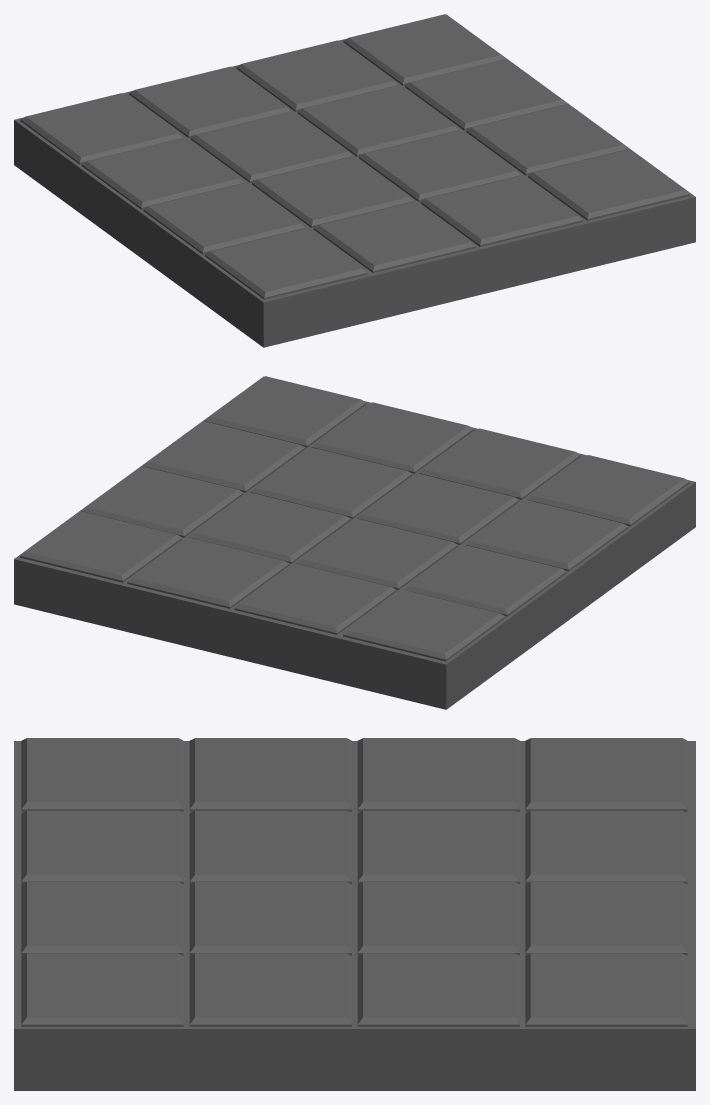
The model's file is Assets.fbx_FloorTile.fbx.
3 renders of one model, top to bottom at view 1: azimuth 30°, elevation 25°; view 2: azimuth 150°, elevation 25°; view 3: azimuth 270°, elevation 25°, orthographic. The views are drawn at different scales.
Visible parts, largest first — view 1: FloorTile; view 2: FloorTile; view 3: FloorTile.
Boxes of the visible parts, x1,y1,x2,y2 form: FloorTile: (14,14,695,347); FloorTile: (14,376,695,709); FloorTile: (14,738,695,1090).
Bounding box in the file's own units: 200 × 22.36 × 200.
